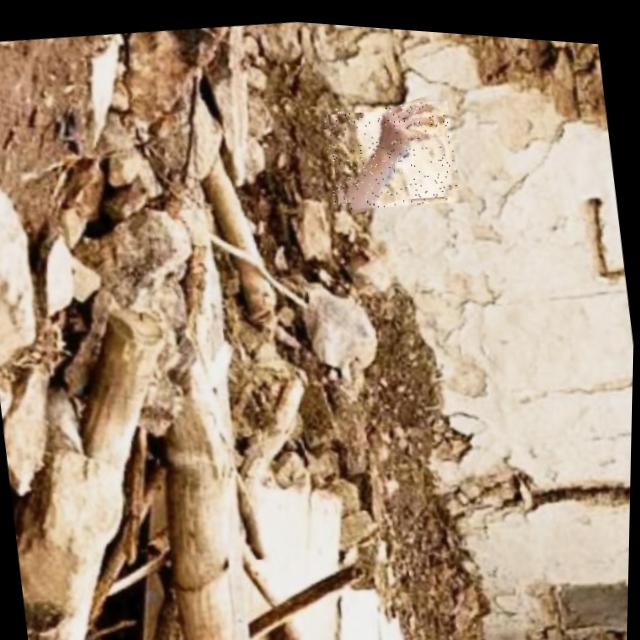Person in Rubble: (320, 86, 461, 212)
